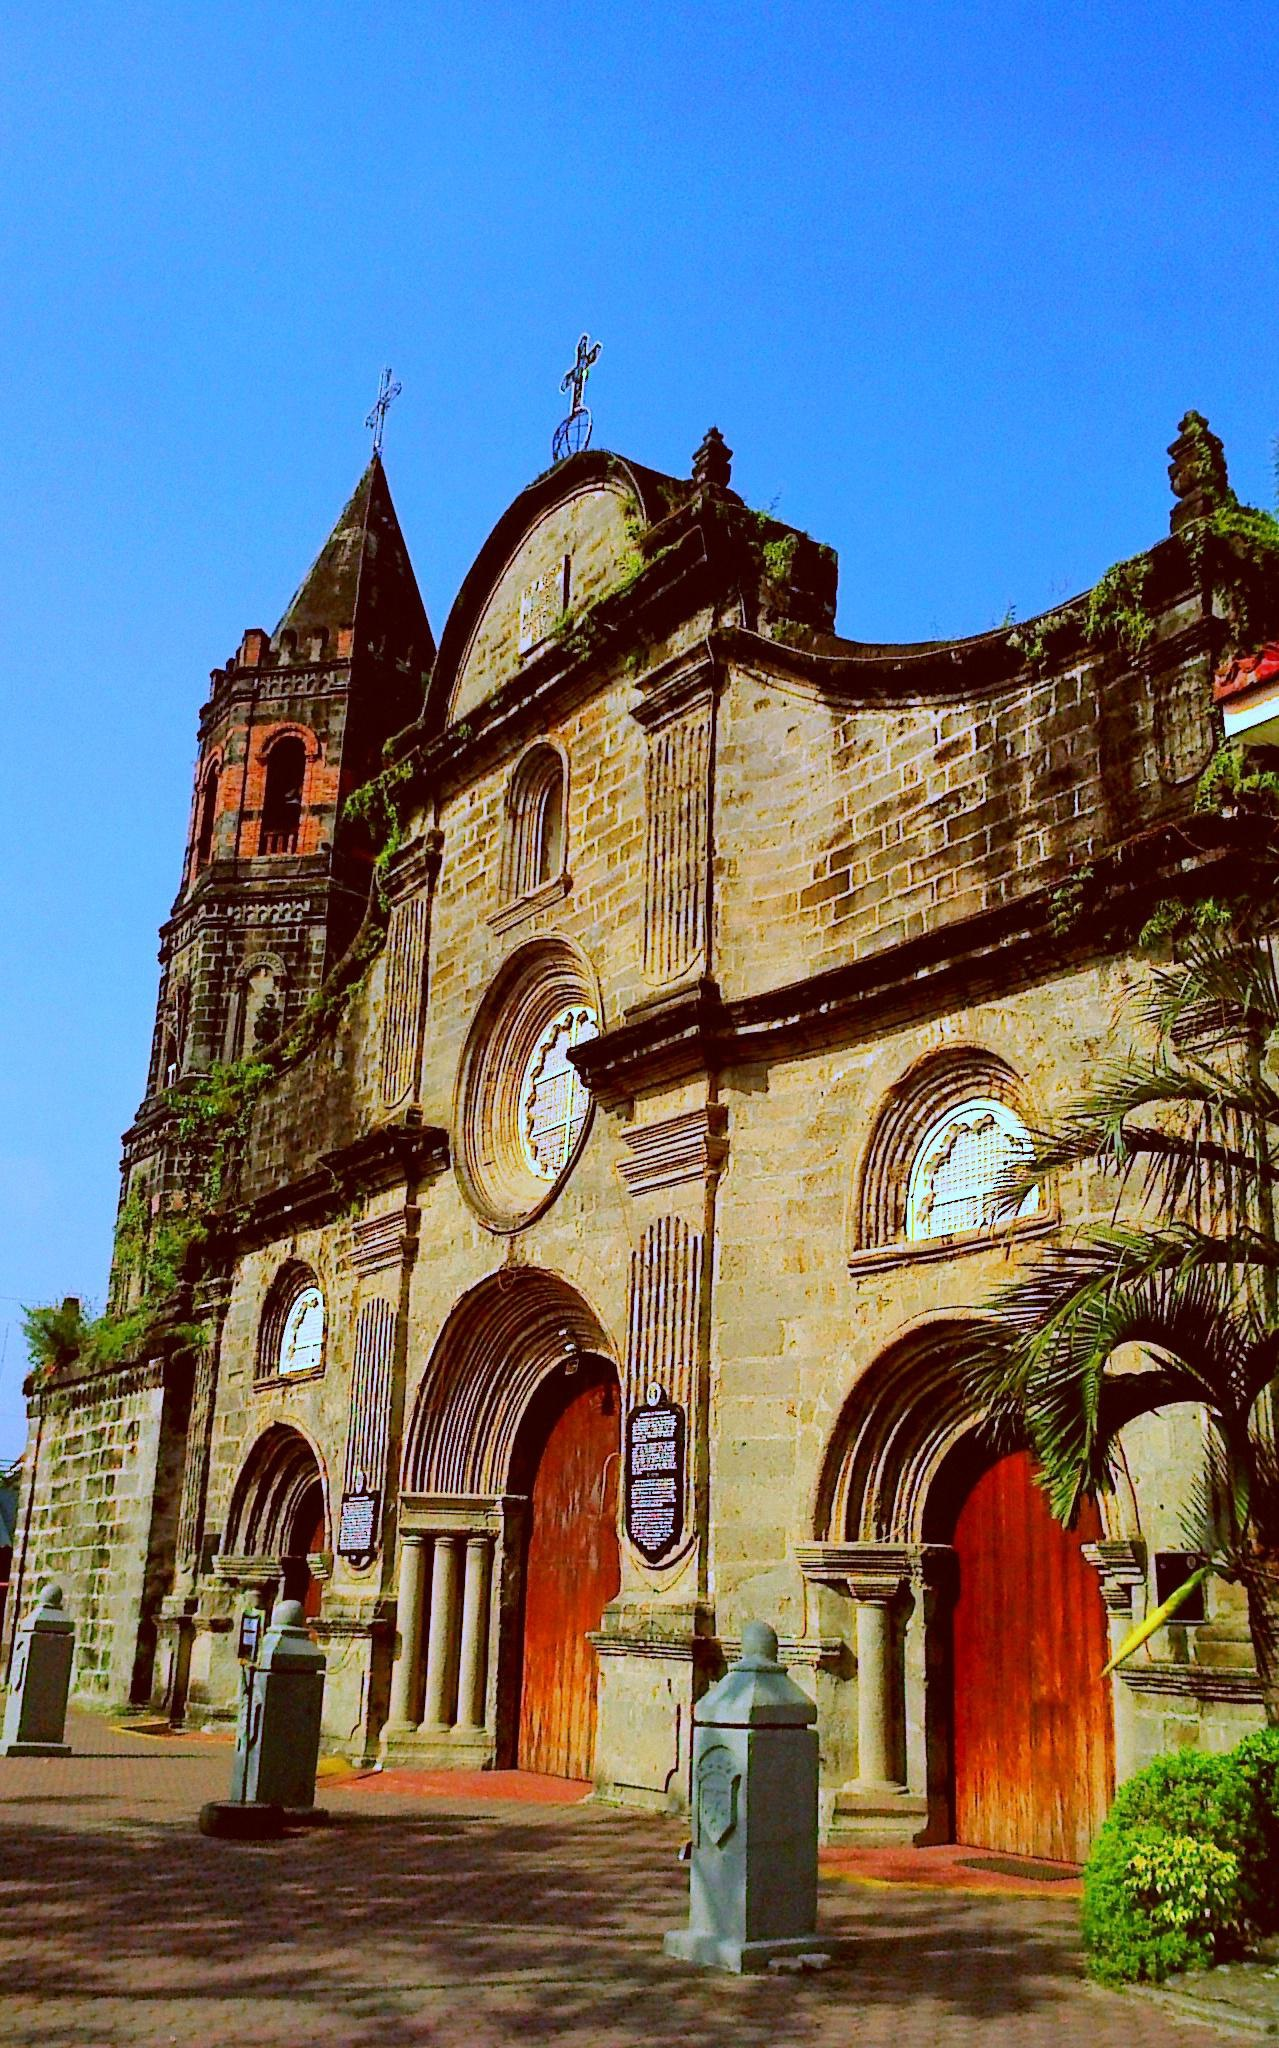barasoain_church_malolos_bulacan: (7, 361, 1279, 1845)
